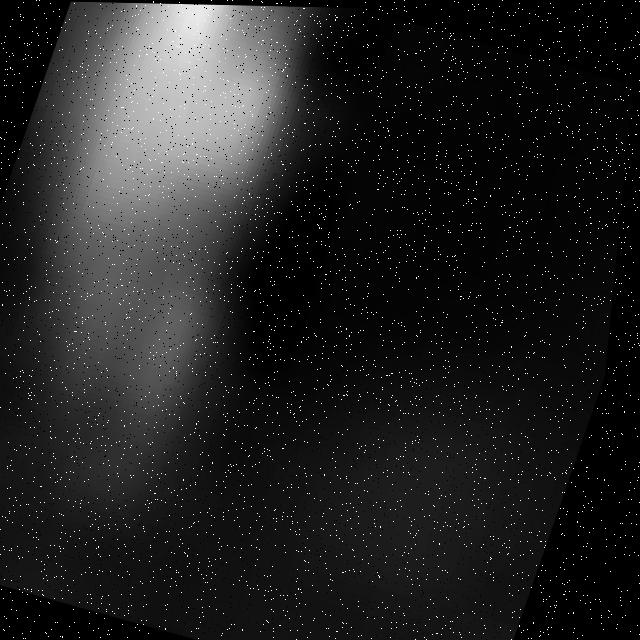person: (1, 1, 349, 486)
